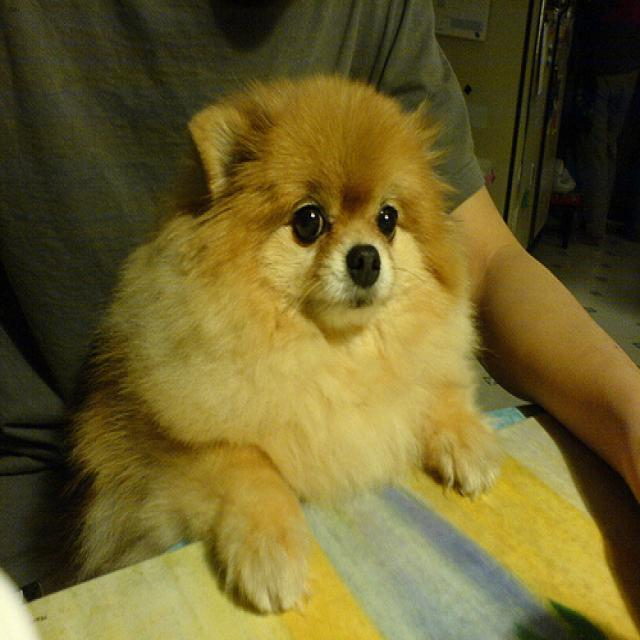dog-pomeranian: (51, 65, 512, 625)
